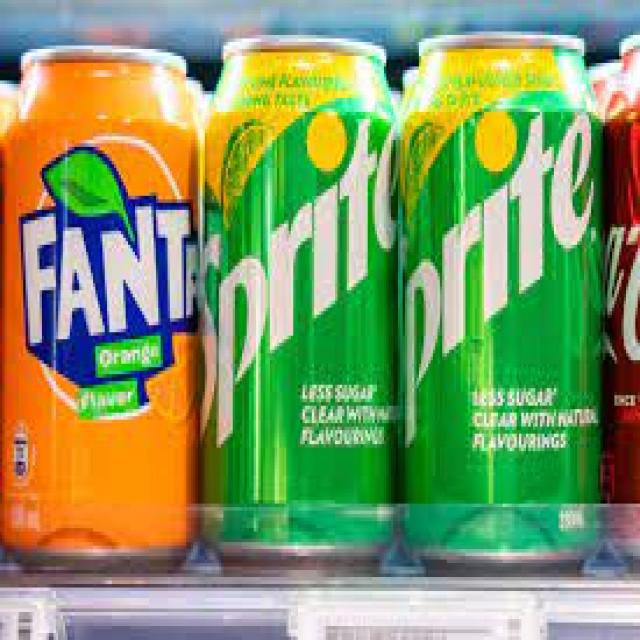Cans: (398, 18, 605, 570), (2, 46, 207, 577), (205, 31, 405, 566)
